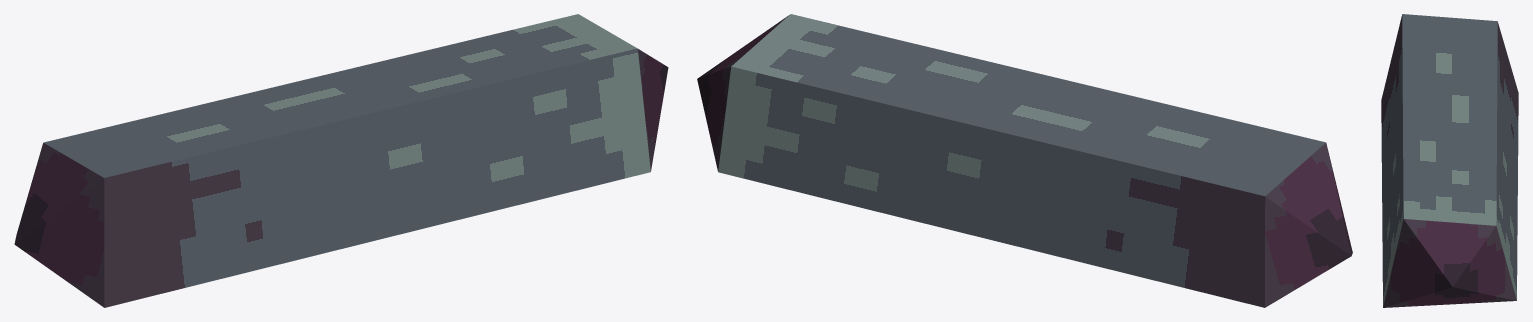
File: rat_forearm.glb
3 views of the same model, side by side, from view 1: azimuth 30°, elevation 25°; view 2: azimuth 150°, elevation 25°; view 3: azimuth 270°, elevation 25° (orthographic). The views are drawn at different scales.
Visible parts, largest first — view 1: Cube.133; view 2: Cube.133; view 3: Cube.133.
Part boxes in pixels (left/top/right/bottom): Cube.133: left=14, top=14, right=668, bottom=307; Cube.133: left=697, top=14, right=1352, bottom=307; Cube.133: left=1381, top=14, right=1518, bottom=307.
Bounding box in the file's own units: 2.15 × 0.3665 × 0.4997.
1 material, 1 textured.
